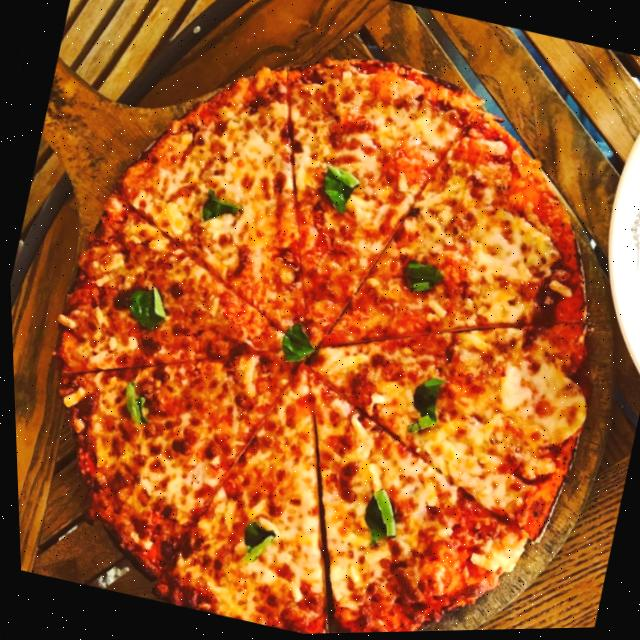basil: (352, 485, 401, 551), (401, 374, 444, 440), (119, 281, 170, 334), (314, 165, 360, 216), (273, 320, 317, 368), (233, 518, 274, 566), (197, 187, 243, 228), (398, 258, 444, 299), (115, 380, 153, 426)
pizza: (0, 0, 640, 640)
